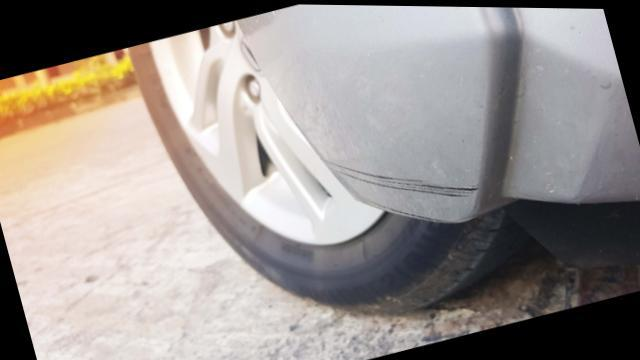scratch: (319, 152, 478, 202)
